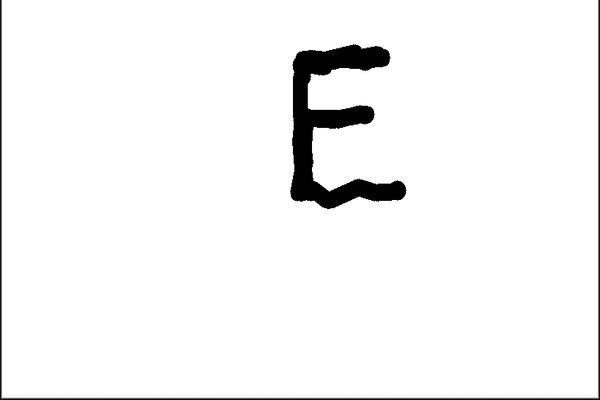E: (285, 40, 413, 210)
